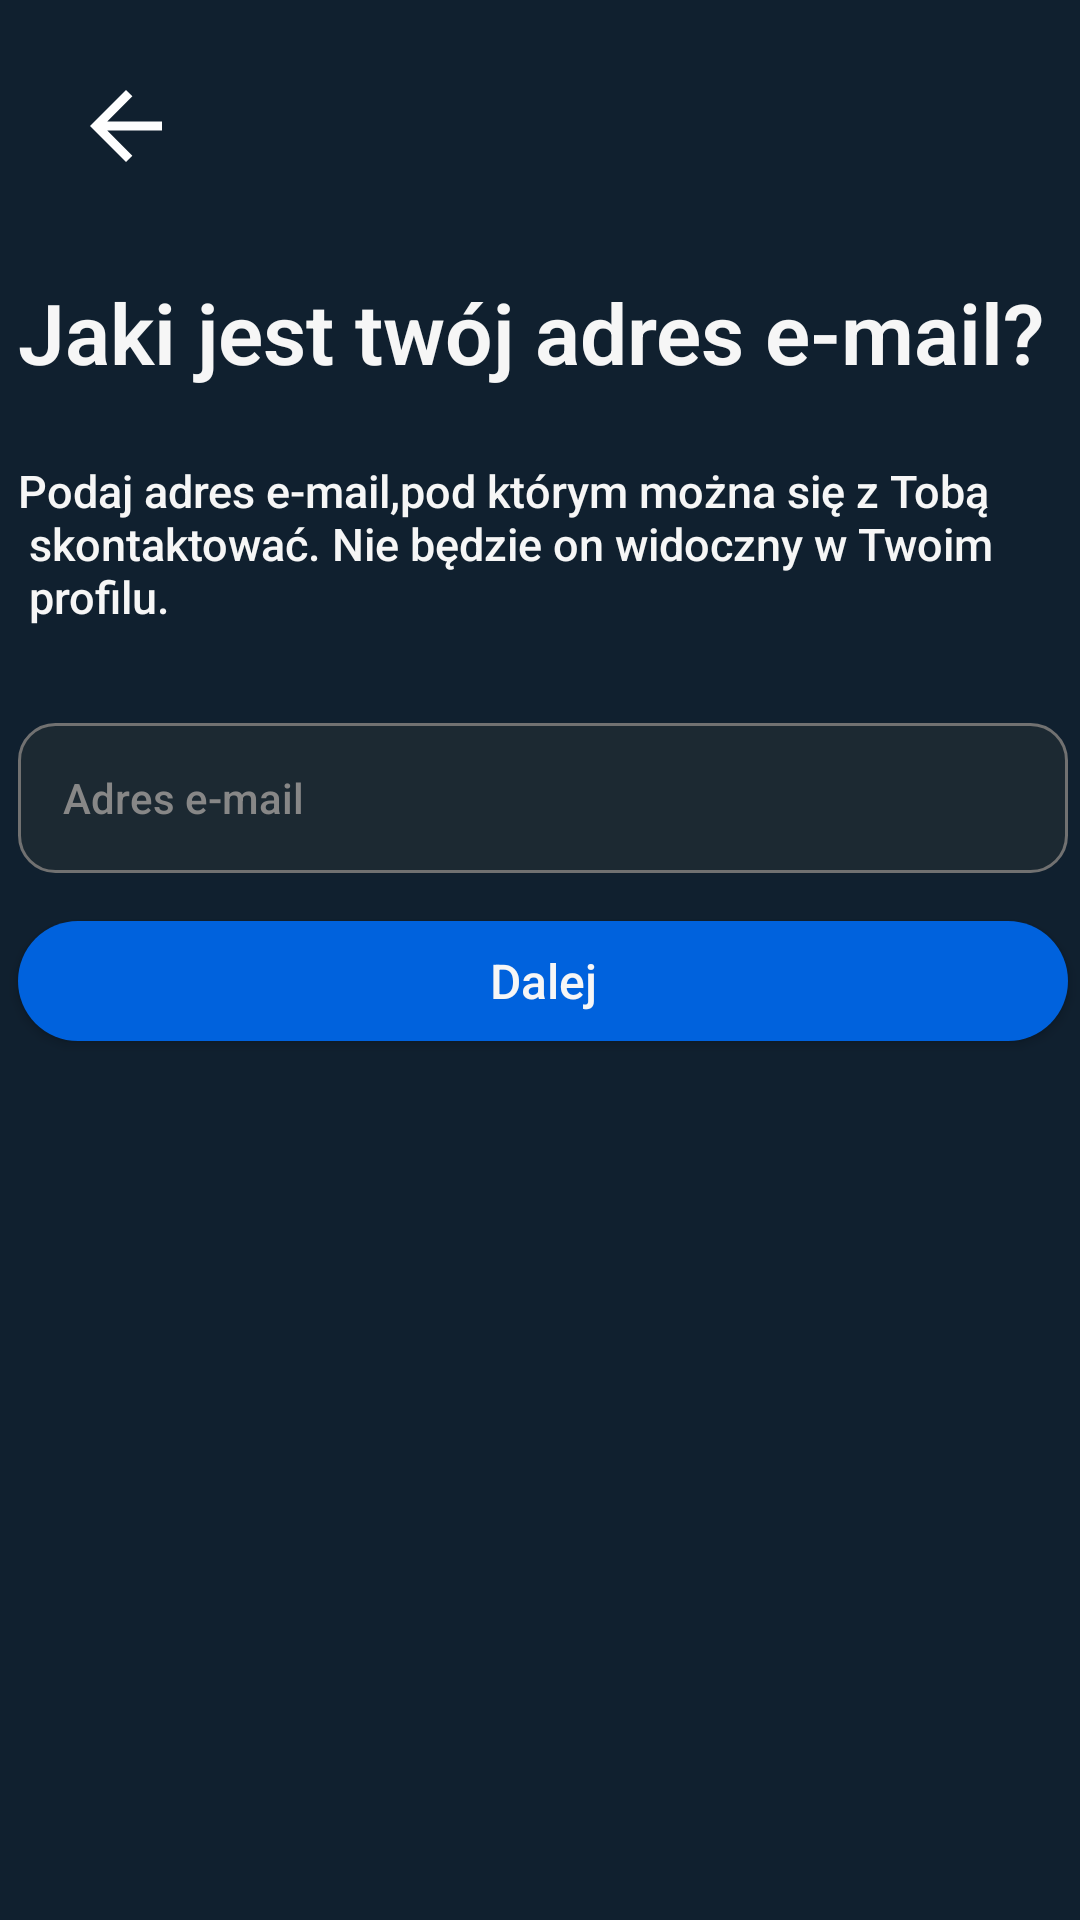

Icon click points for this 1080*1920 phone screenshot, format [x,y]:
arrow back: [126,126]
